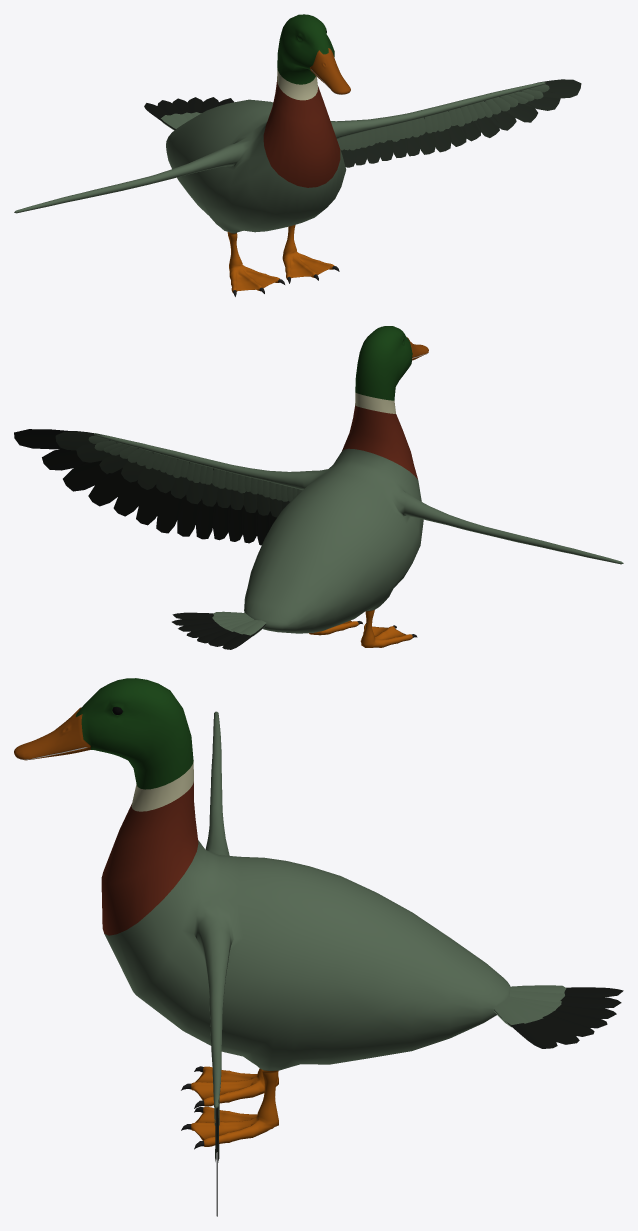
Rendered from duck.obj.
3 views of the same model, one above another, from view 1: azimuth 30°, elevation 25°; view 2: azimuth 150°, elevation 25°; view 3: azimuth 270°, elevation 25° (orthographic). The views are drawn at different scales.
Parts seen in each view (by area): view 1: duck, feather_flight_secondary_032, feather_flight_secondary_030; view 2: duck, feather_flight_primary_014, feather_flight_primary_013, feather_flight_primary_016, feather_flight_primary_010, feather_flight_primary_011, feather_flight_primary_012, feather_flight_primary_015, feather_flight_primary_009, feather_flight_primary_008, feather_flight_secondary_032, feather_flight_primary_007 (+2 smaller); view 3: duck.
Boxes of the visible parts, <box> form: duck: <box>14,14,545,296</box>; feather_flight_secondary_032: <box>534,79,581,98</box>; feather_flight_secondary_030: <box>499,96,537,122</box>; duck: <box>94,326,623,647</box>; feather_flight_primary_014: <box>63,460,122,491</box>; feather_flight_primary_013: <box>88,470,134,506</box>; feather_flight_primary_016: <box>14,429,73,449</box>; feather_flight_primary_010: <box>156,490,185,533</box>; feather_flight_primary_011: <box>136,484,169,525</box>; feather_flight_primary_012: <box>113,480,151,516</box>; feather_flight_primary_015: <box>42,448,94,470</box>; feather_flight_primary_009: <box>177,495,201,536</box>; feather_flight_primary_008: <box>195,499,216,539</box>; feather_flight_secondary_032: <box>55,431,110,450</box>; feather_flight_primary_007: <box>212,500,230,540</box>; duck: <box>14,678,510,1149</box>.
Size of the model in its own units: 0.8988 by 0.3975 by 0.5099.
